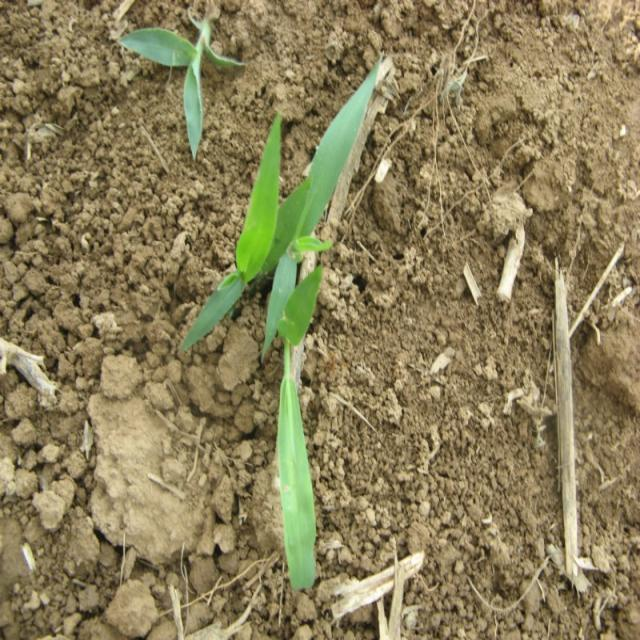bg: (184, 63, 379, 596)
